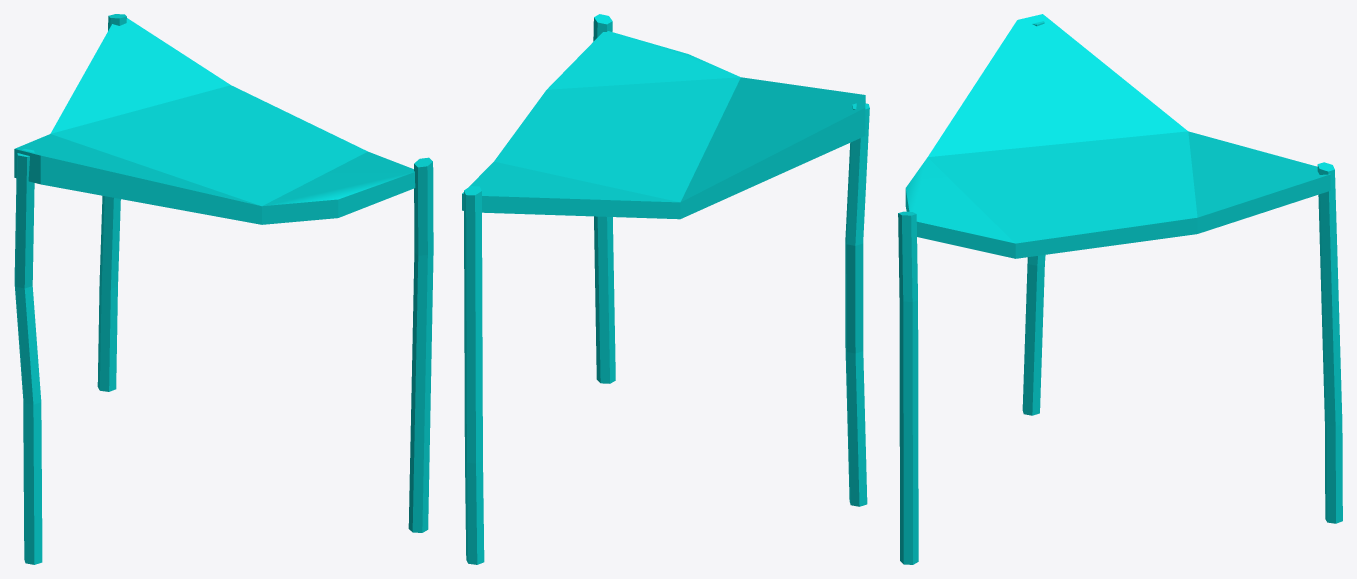
File: SM_Bld_Tent_03_Collision.fbx
3 views of the same model, side by side, from view 1: azimuth 30°, elevation 25°; view 2: azimuth 150°, elevation 25°; view 3: azimuth 270°, elevation 25° (orthographic). The views are drawn at different scales.
Parts seen in each view (by area): view 1: SM_Bld_Tent_03_Collision; view 2: SM_Bld_Tent_03_Collision; view 3: SM_Bld_Tent_03_Collision.
Boxes of the visible parts, x1,y1,x2,y2 form: SM_Bld_Tent_03_Collision: (14, 14, 433, 564); SM_Bld_Tent_03_Collision: (462, 14, 869, 564); SM_Bld_Tent_03_Collision: (898, 14, 1342, 564).
Bounding box in the file's own units: 274 × 310 × 319.
